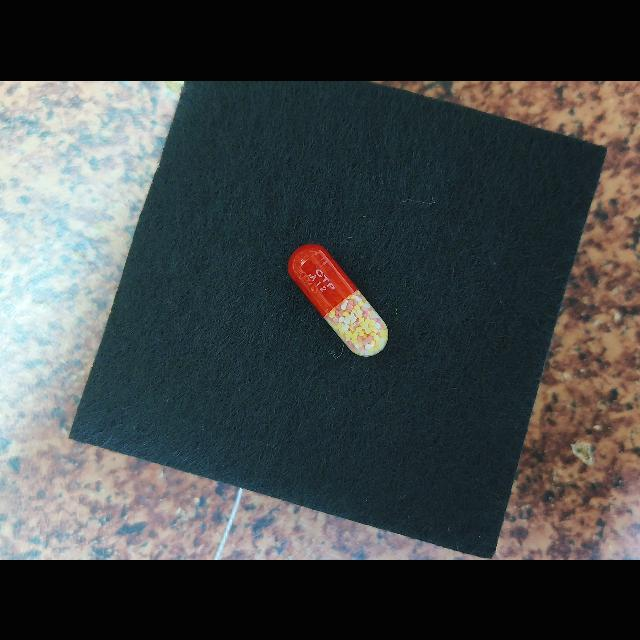Intact Capsule: (288, 243, 388, 356)
